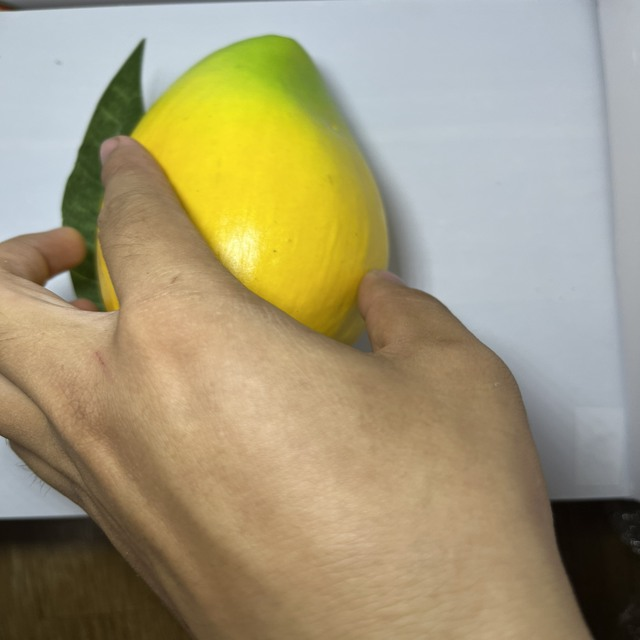Xoai: (84, 21, 404, 343)
